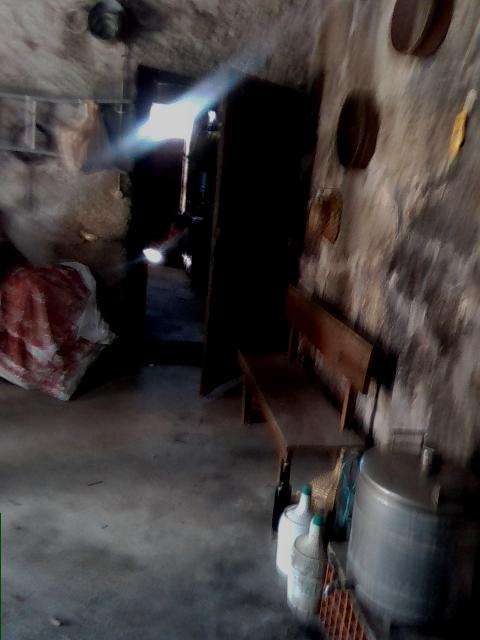semi_door: (123, 59, 309, 401)
